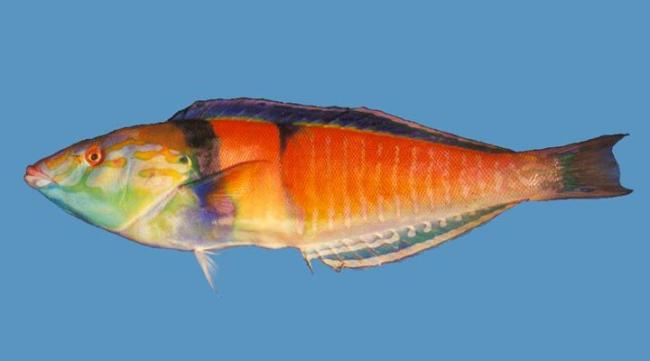fish: (24, 97, 634, 297)
